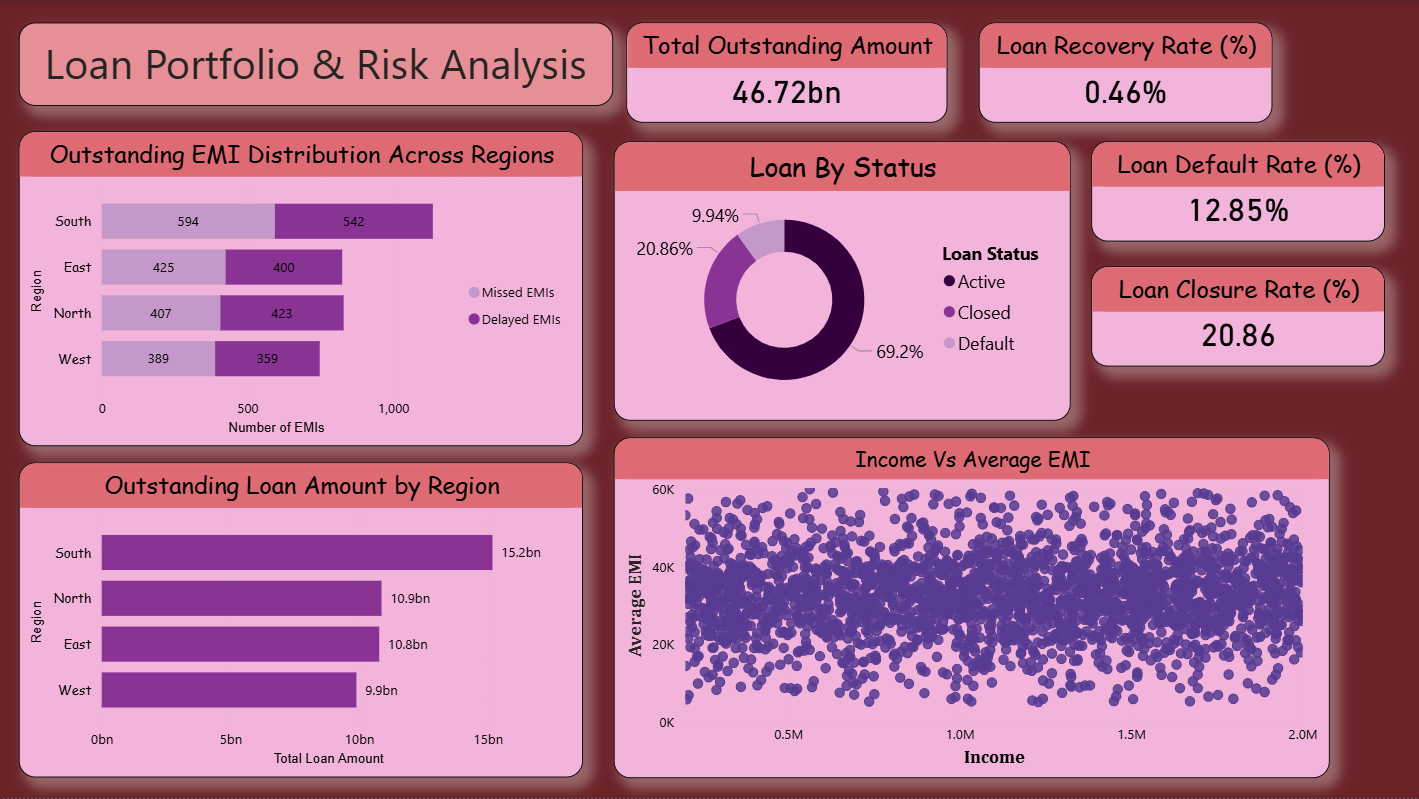

The page's visual inventory and layout, read from the dashboard file:
{"tool":"powerbi","page":{"name":"Loan Portfolio & Risk Analysis","canvas":[1280,720],"ordinal":2},"visuals":[{"type":"card","title":"Total Outstanding Amount","fields":{"Values":["Sum(bank_db outstanding_amt_by_branch.outstanding_loan_amount)"]},"box":[564.6,20.7,289.4,90.4],"z":0},{"type":"card","title":"Loan Recovery Rate (%)","fields":{"Values":["All Measures.% Fully Paid Loans"]},"box":[882.4,20.7,264.8,90.4],"z":1000},{"type":"card","title":"Loan Default Rate (%)","fields":{"Values":["All Measures.Default_Rate"]},"box":[984.4,127.9,264.8,90.4],"z":2000},{"type":"textbox","box":[16.8,20.7,536.1,74.9],"z":3000},{"type":"barChart","title":"Outstanding Loan Amount by Region","fields":{"Y":["Sum(bank_db outstanding_loan_amt_by_region.outstanding_loan_amount)"],"Category":["bank_db outstanding_loan_amt_by_region.region"]},"box":[16.8,417.3,509,284.2],"z":4000},{"type":"barChart","title":"Outstanding Loan Amount by Region","fields":{"Category":["bank_db region_wise_credit_risk.region"],"Y":["Sum(bank_db region_wise_credit_risk.missed_emis)","Sum(bank_db region_wise_credit_risk.delayed_emis)"]},"box":[16.8,118.9,509,284.2],"z":5000},{"type":"donutChart","title":"Loan By Status","fields":{"Series":["bank_db bank_loans.loan_status"],"Y":["CountNonNull(bank_db bank_loans.customer_id)"]},"box":[552.9,127.9,412.1,251.9],"z":6000},{"type":"scatterChart","title":"Income Vs Average EMI","fields":{"X":["bank_db avg_emi_vs_income.income"],"Y":["bank_db avg_emi_vs_income.avg_emi"]},"box":[552.9,394,645.9,307.5],"z":7000},{"type":"card","title":"Loan Closure Rate (%)","fields":{"Values":["Sum(bank_db loan_closure_rate.closure_rate_pct)"]},"box":[984.4,240.3,264.8,90.4],"z":8000}]}

Visuals, with their boxes in screenshot pixels (x1, y1, x2, y2), scaled from the page's 1280x720 canvas onto the 1419x799 screenshot:
"Total Outstanding Amount" card: 626/23/947/123
"Loan Recovery Rate (%)" card: 978/23/1272/123
"Loan Default Rate (%)" card: 1091/142/1385/242
textbox: 19/23/613/106
"Outstanding Loan Amount by Region" barChart: 19/463/583/778
"Outstanding Loan Amount by Region" barChart: 19/132/583/447
"Loan By Status" donutChart: 613/142/1070/421
"Income Vs Average EMI" scatterChart: 613/437/1329/778
"Loan Closure Rate (%)" card: 1091/267/1385/367
